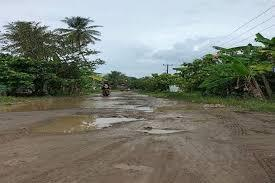Pothole: (22, 114, 211, 149), (0, 93, 164, 115), (160, 95, 218, 119), (100, 158, 167, 174), (249, 126, 275, 142), (229, 103, 257, 116)
